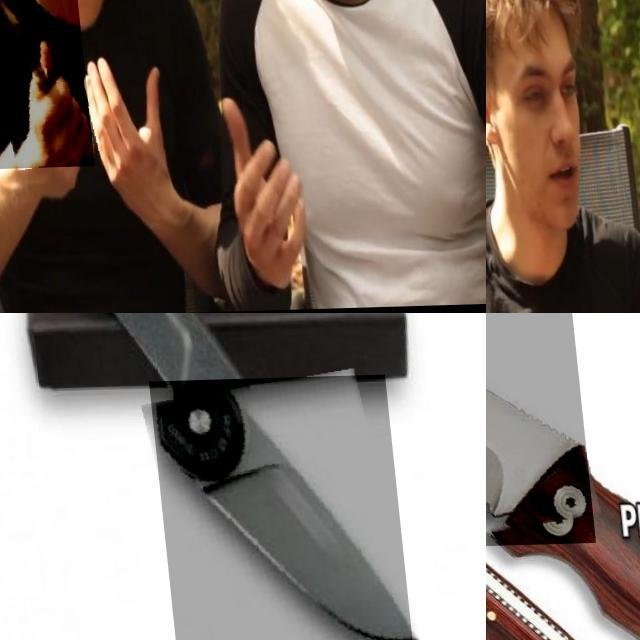-: (142, 377, 403, 640), (486, 313, 640, 552), (0, 0, 83, 169)
